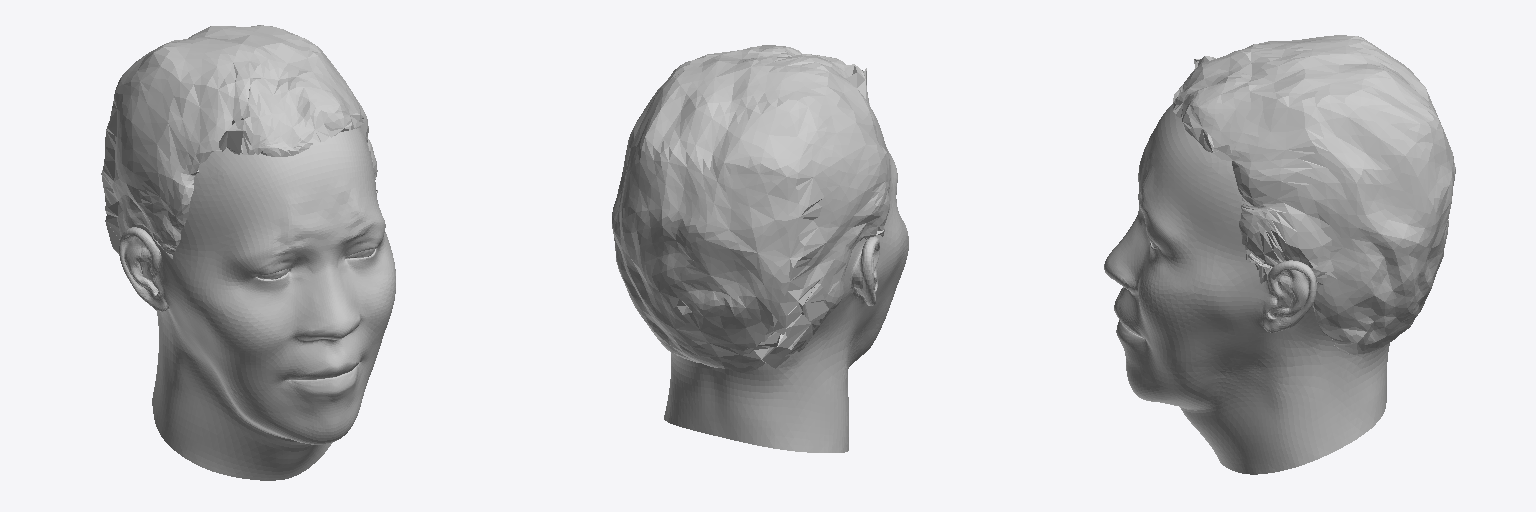
The model's file is mandela cheveux.obj.
3 views of the same model, side by side, from view 1: azimuth 30°, elevation 25°; view 2: azimuth 150°, elevation 25°; view 3: azimuth 270°, elevation 25° (orthographic).
Visible parts, largest first — view 1: mandela, sketch1; view 2: sketch1, mandela; view 3: sketch1, mandela.
Part boxes in pixels (bbox=[...]): mandela: bbox=[119, 128, 395, 480]; sketch1: bbox=[101, 25, 377, 258]; sketch1: bbox=[612, 45, 890, 371]; mandela: bbox=[664, 109, 908, 452]; sketch1: bbox=[1173, 35, 1455, 355]; mandela: bbox=[1104, 104, 1389, 474].
Bounding box in the file's own units: 184 × 293 × 233.